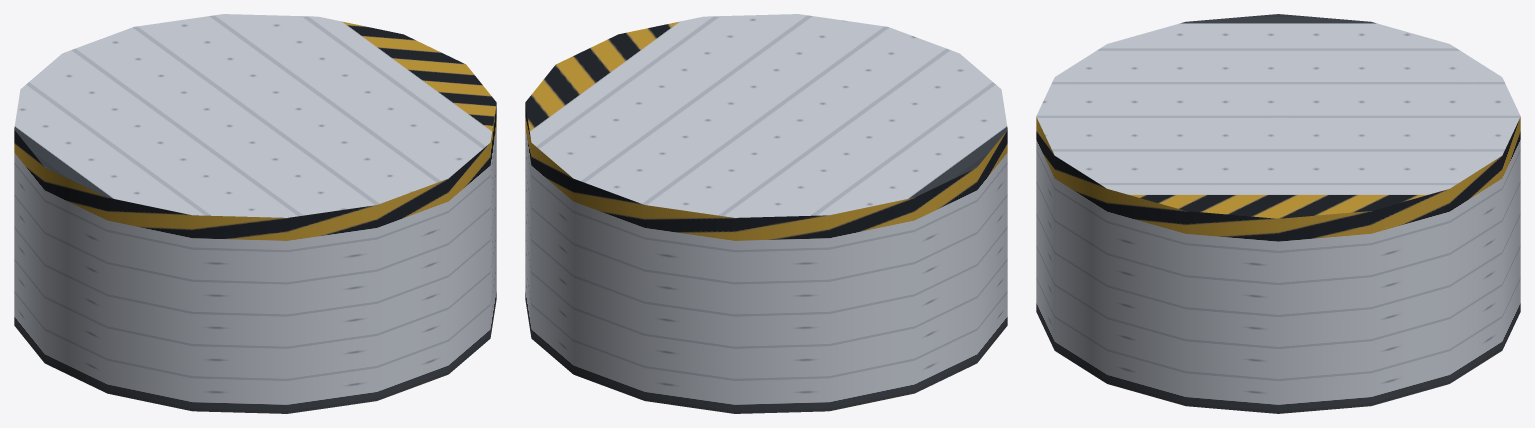
File: srb-kick_rt-2-thumper-micro-srb.glb
3 views of the same model, side by side, from view 1: azimuth 30°, elevation 25°; view 2: azimuth 150°, elevation 25°; view 3: azimuth 270°, elevation 25° (orthographic).
Parts seen in each view (by area): view 1: RT-2 "Thumper" Micro SRB; view 2: RT-2 "Thumper" Micro SRB; view 3: RT-2 "Thumper" Micro SRB.
Part boxes in pixels (x1,y1,x2,y2): RT-2 "Thumper" Micro SRB: (14,14,496,413); RT-2 "Thumper" Micro SRB: (525,14,1007,413); RT-2 "Thumper" Micro SRB: (1036,14,1520,413).
Bounding box in the file's own units: 0.9 × 0.4 × 0.9.
1 material, 1 textured.
